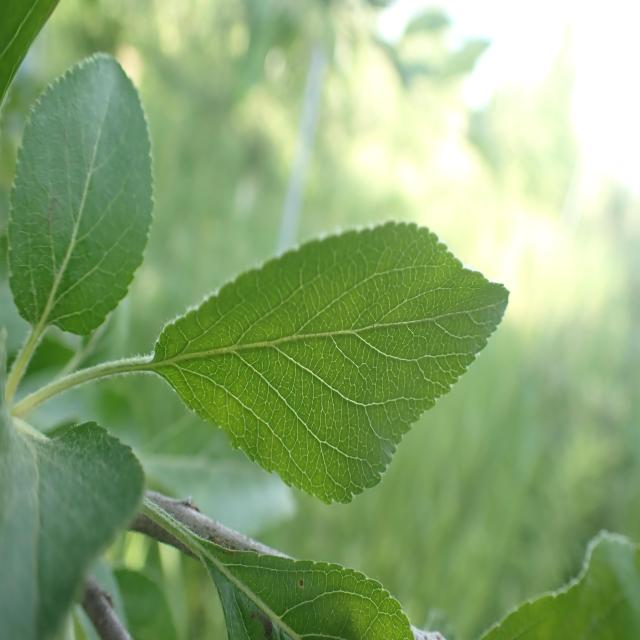healthy: (153, 220, 511, 505), (0, 328, 146, 640), (8, 51, 154, 337), (204, 538, 414, 640), (477, 529, 640, 640)
